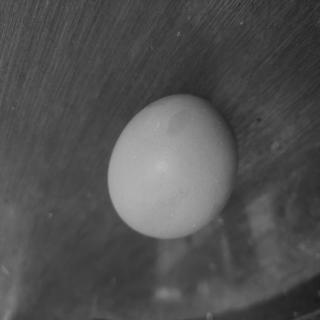Telur: (108, 91, 244, 245)
